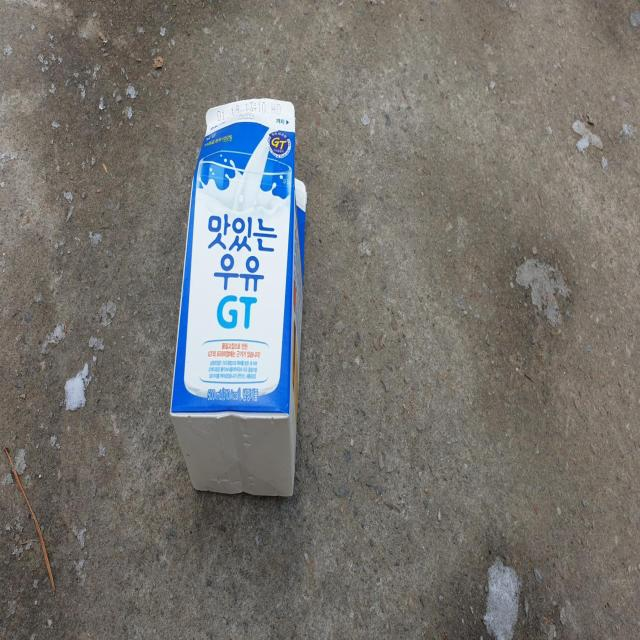paperpack: (170, 97, 307, 496)
